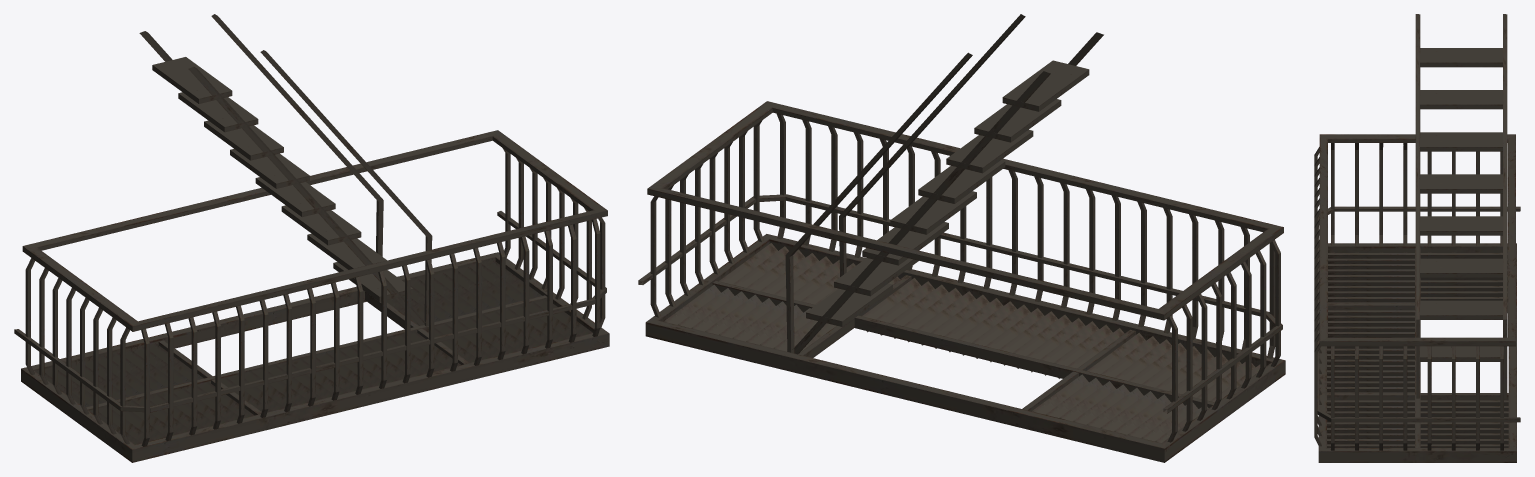
The model's file is Prop_FireEscape_Center.glb.
The picture shows the model from 3 angles, left to right: view 1: azimuth 30°, elevation 25°; view 2: azimuth 150°, elevation 25°; view 3: azimuth 270°, elevation 25°; orthographic projection. The views are drawn at different scales.
Visible parts, largest first — view 1: Prop_FireEscape_Center; view 2: Prop_FireEscape_Center; view 3: Prop_FireEscape_Center.
Part boxes in pixels (<box>): Prop_FireEscape_Center: <box>14,14,609,462</box>; Prop_FireEscape_Center: <box>638,14,1285,462</box>; Prop_FireEscape_Center: <box>1314,14,1520,462</box>.
Size of the model in its own units: 4.8 by 3.07 by 1.98.
Materials: 1 (1 with a texture image).
